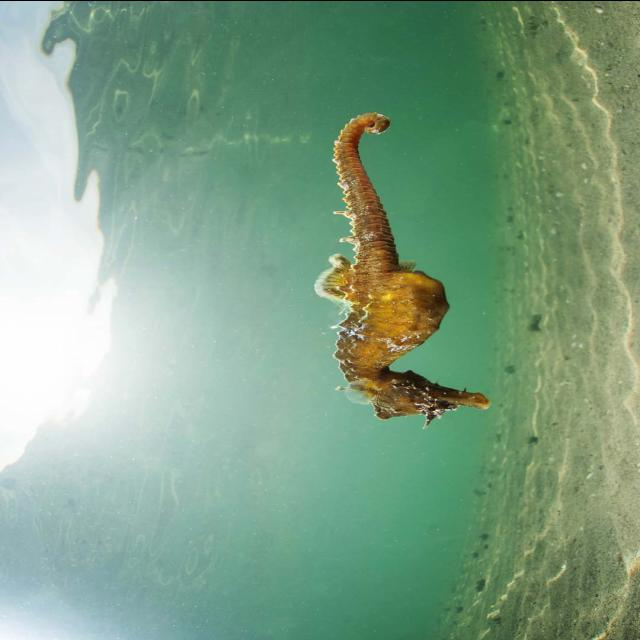Hippo: (360, 364, 500, 426)
